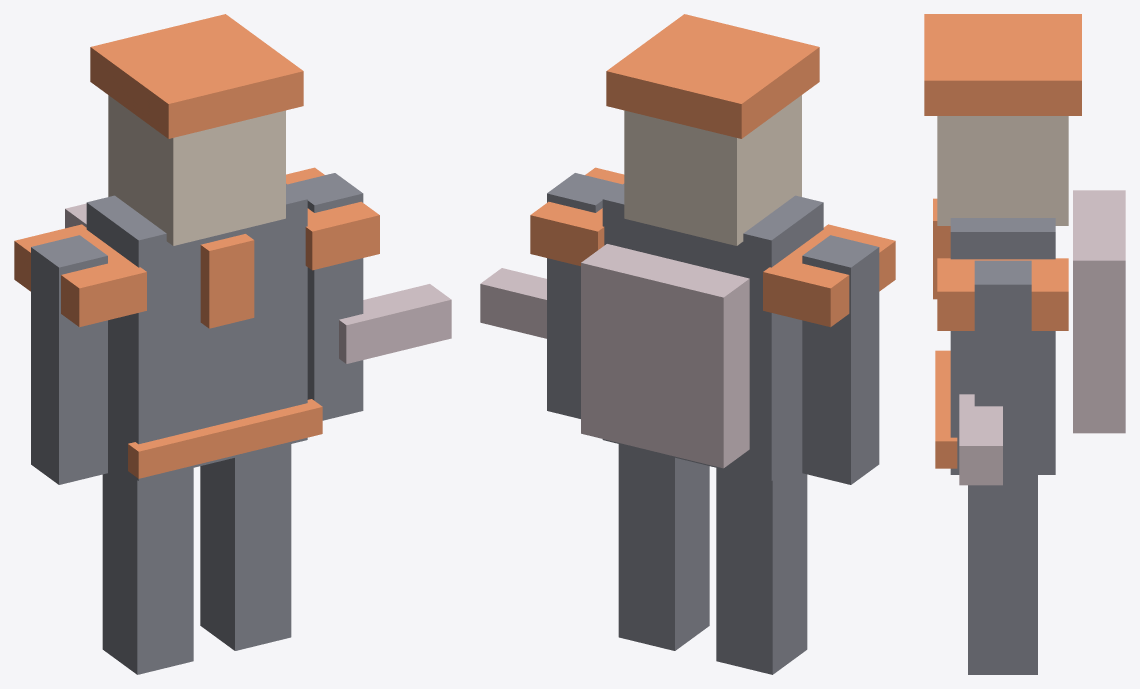
The model's file is 17_zerin_cragwarden_pilgrim_at_troop.glb.
The picture shows the model from 3 angles, left to right: view 1: azimuth 30°, elevation 25°; view 2: azimuth 150°, elevation 25°; view 3: azimuth 270°, elevation 25°; orthographic projection.
Visible parts, largest first — view 1: Zerin Cragwarden, Pilgrim at Troop; view 2: Zerin Cragwarden, Pilgrim at Troop; view 3: Zerin Cragwarden, Pilgrim at Troop.
Part boxes in pixels (x1,y1,x2,y2): Zerin Cragwarden, Pilgrim at Troop: (14,14,451,674); Zerin Cragwarden, Pilgrim at Troop: (480,14,895,674); Zerin Cragwarden, Pilgrim at Troop: (924,14,1125,674).
Size of the model in its own units: 0.9778 by 1.42 by 0.4388.
